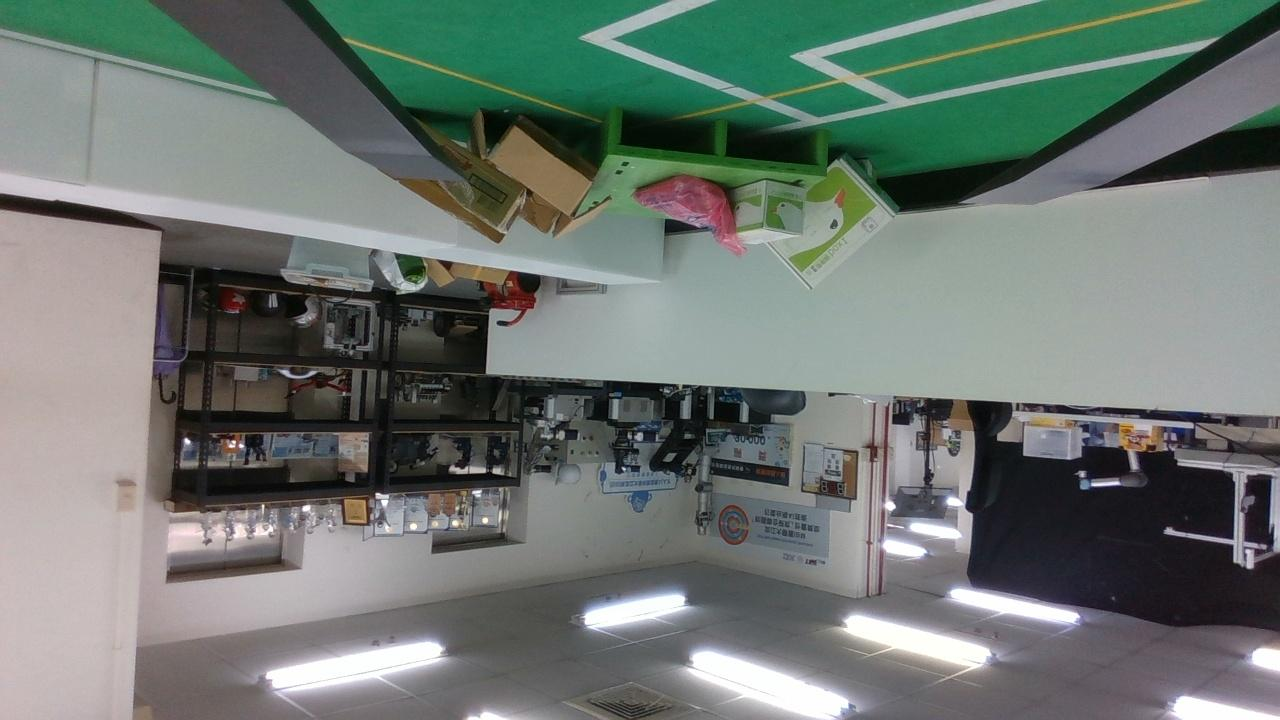Pallet: (606, 109, 828, 177)
